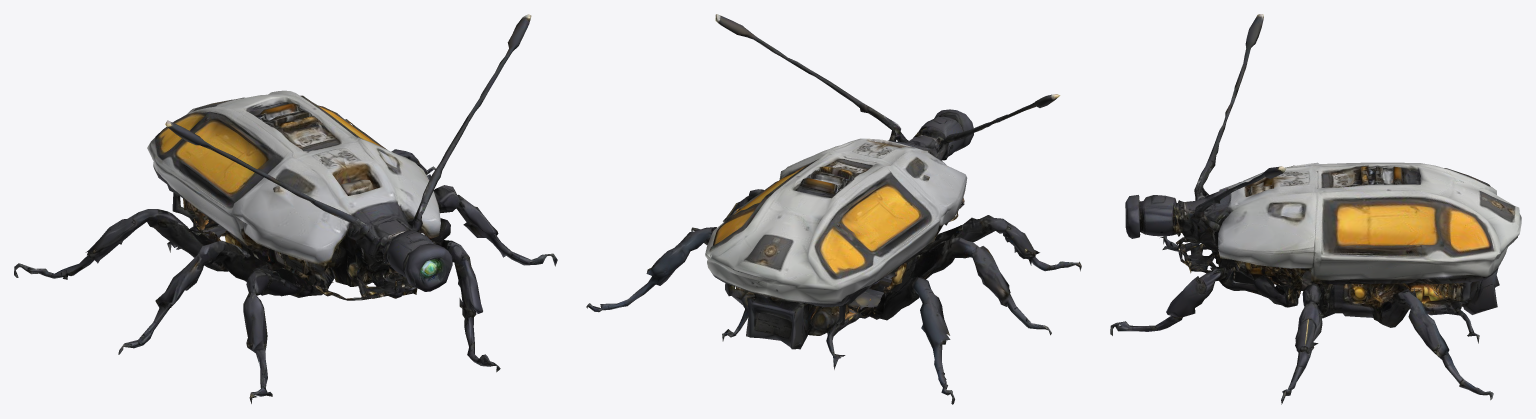
The model's file is bug.glb.
3 views of the same model, side by side, from view 1: azimuth 30°, elevation 25°; view 2: azimuth 150°, elevation 25°; view 3: azimuth 270°, elevation 25° (orthographic). The views are drawn at different scales.
Size of the model in its own units: 1.99 by 1.18 by 1.91.
1 material, 1 textured.
